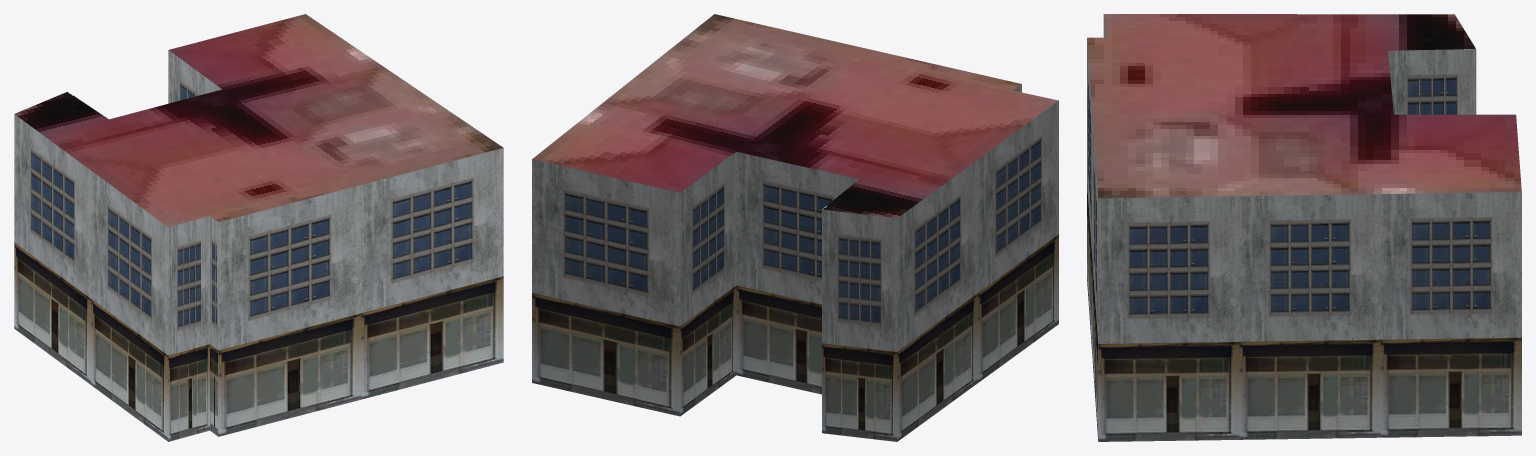
The model's file is T_1SXET4NVEL.dae.
The picture shows the model from 3 angles, left to right: view 1: azimuth 30°, elevation 25°; view 2: azimuth 150°, elevation 25°; view 3: azimuth 270°, elevation 25°; orthographic projection. The views are drawn at different scales.
Visible parts, largest first — view 1: SketchUp (×10); view 2: SketchUp (×11); view 3: SketchUp (×6).
Part boxes in pixels (x1=…): SketchUp (×10): x1=14, y1=14, x2=503, y2=441; SketchUp (×11): x1=532, y1=14, x2=1058, y2=441; SketchUp (×6): x1=1087, y1=14, x2=1521, y2=441.
Size of the model in its own units: 13.31 by 13.26 by 8.2.
3 materials, 3 textured.
